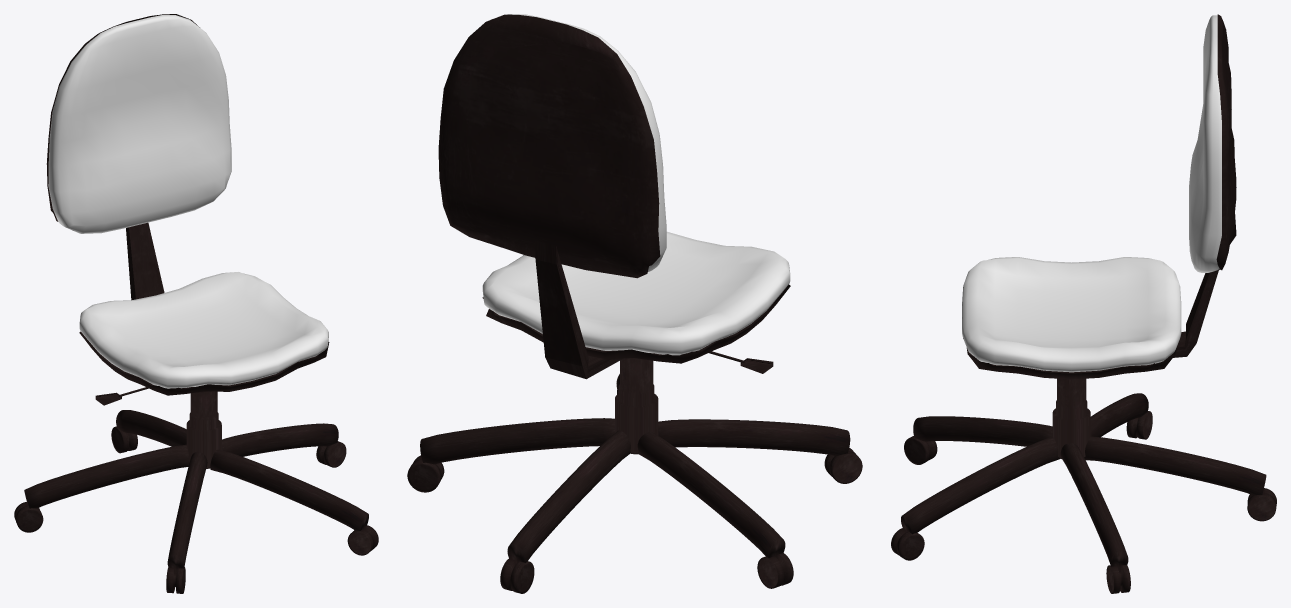
The model's file is Stuhl.fbx.
3 views of the same model, side by side, from view 1: azimuth 30°, elevation 25°; view 2: azimuth 150°, elevation 25°; view 3: azimuth 270°, elevation 25° (orthographic). The views are drawn at different scales.
Parts seen in each view (by area): view 1: Stuhl_blau; view 2: Stuhl_blau; view 3: Stuhl_blau.
Part boxes in pixels (x1,y1,x2,y2): Stuhl_blau: (14, 14, 378, 593); Stuhl_blau: (407, 14, 862, 593); Stuhl_blau: (891, 14, 1276, 593).
Size of the model in its own units: 164 by 220 by 158.
